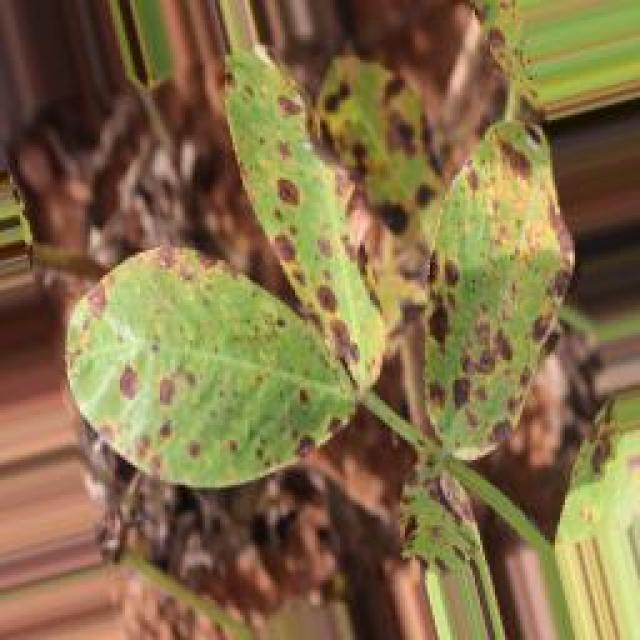Yellowish: (100, 34, 571, 521)
